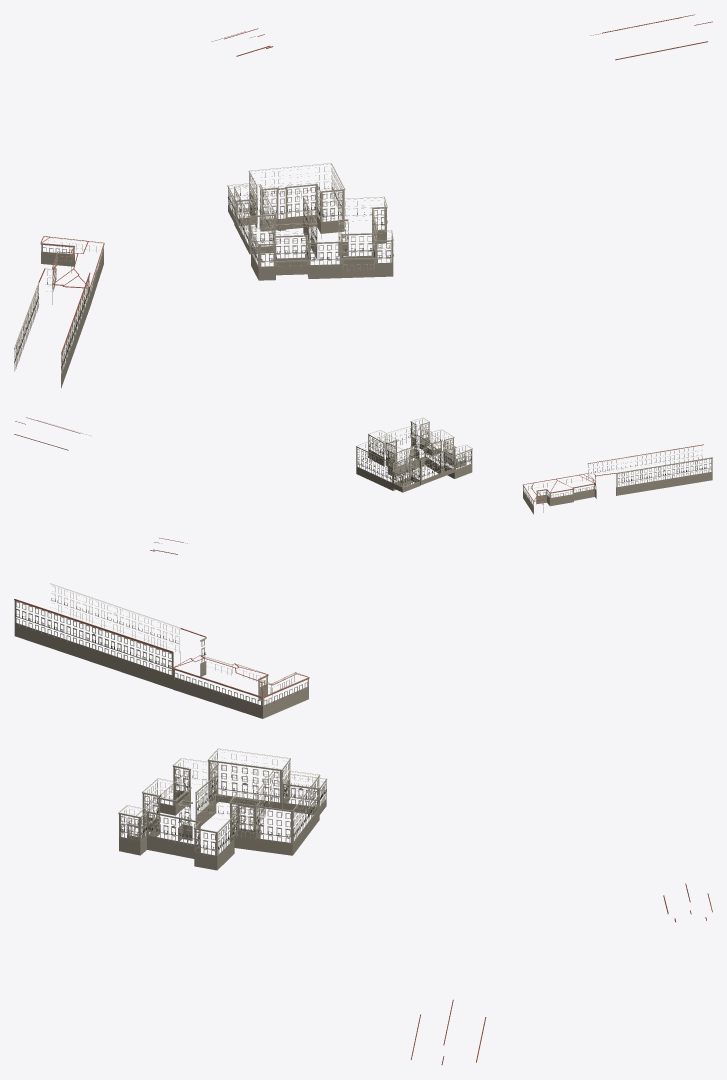
3 views of the same model, one above another, from view 1: azimuth 30°, elevation 25°; view 2: azimuth 150°, elevation 25°; view 3: azimuth 270°, elevation 25° (orthographic). The views are drawn at different scales.
Visible parts, largest first — view 1: detail; view 2: detail; view 3: detail.
Boxes of the visible parts, x1,y1,x2,y2 form: detail: (14,14,712,388); detail: (14,417,712,554); detail: (14,583,712,1064).
Size of the model in its own units: 376 by 21.55 by 243.
